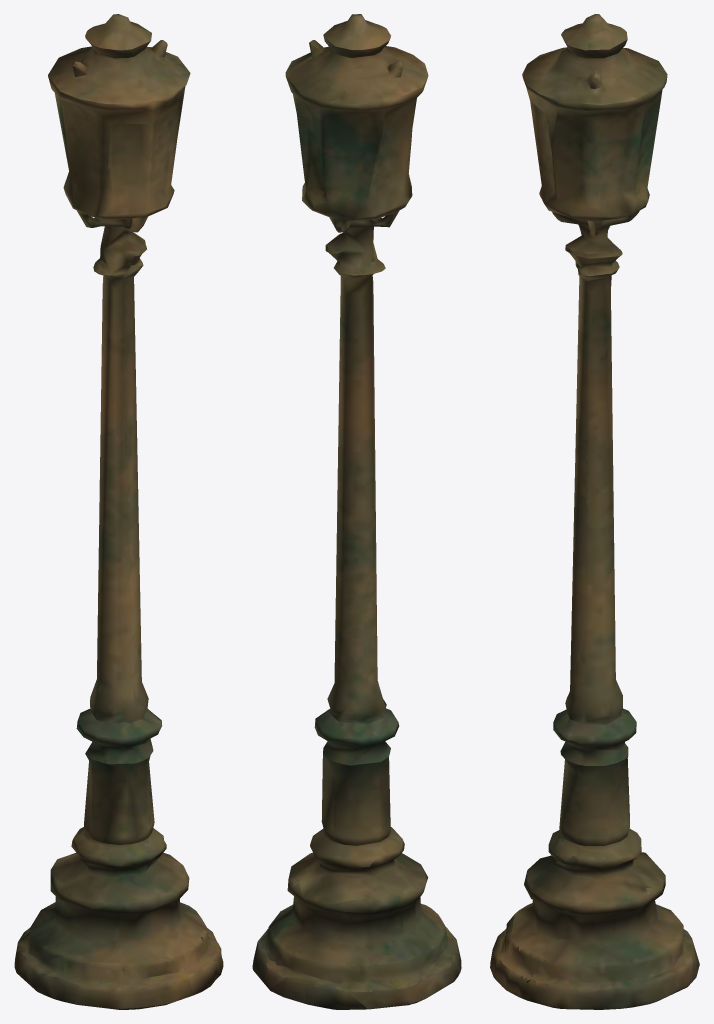
File: sturdy-bronze-lamp-post-v001.glb
3 views of the same model, side by side, from view 1: azimuth 30°, elevation 25°; view 2: azimuth 150°, elevation 25°; view 3: azimuth 270°, elevation 25° (orthographic).
Parts seen in each view (by area): view 1: sturdy-bronze-lamp-post; view 2: sturdy-bronze-lamp-post; view 3: sturdy-bronze-lamp-post.
Boxes of the visible parts, x1,y1,x2,y2 form: sturdy-bronze-lamp-post: (14, 14, 223, 1009); sturdy-bronze-lamp-post: (252, 14, 461, 1009); sturdy-bronze-lamp-post: (490, 14, 699, 1009).
Bounding box in the file's own units: 0.4613 × 2.34 × 0.4659.
1 material, 1 textured.
